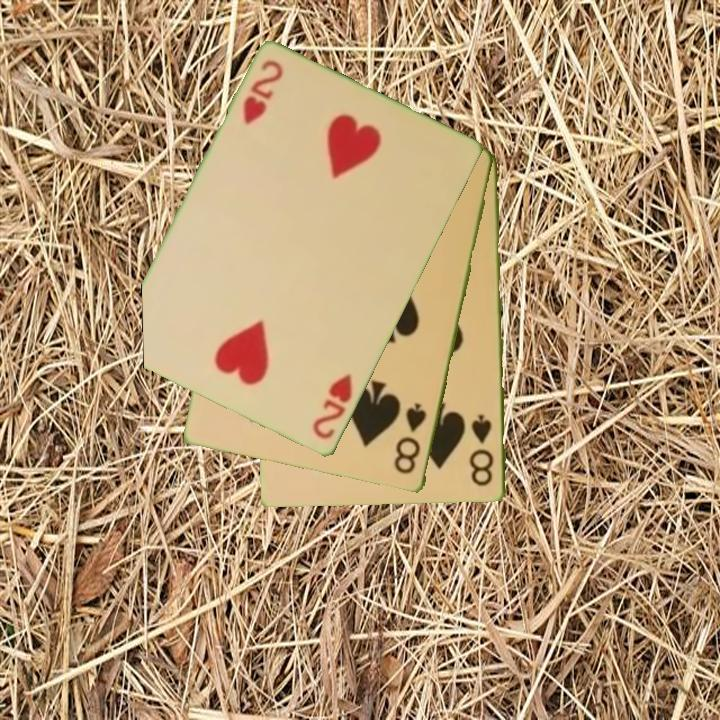2h: (309, 370, 356, 443), (239, 57, 287, 128)
8s: (390, 400, 430, 477), (468, 412, 497, 490)
